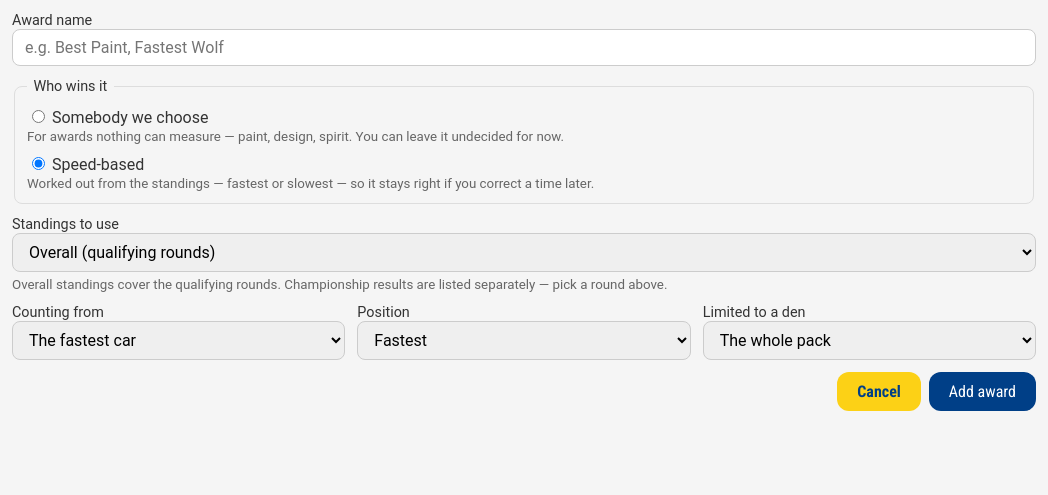
Test case: AwardForm › the judged-award picker warning (#615) › warns when the picked racer already holds another award
This screenshot has width=1048, height=495.
Click the radio button labelled "Somebody we choose". click: (38, 116)
box: top-left (32, 110), bottom-right (45, 123)
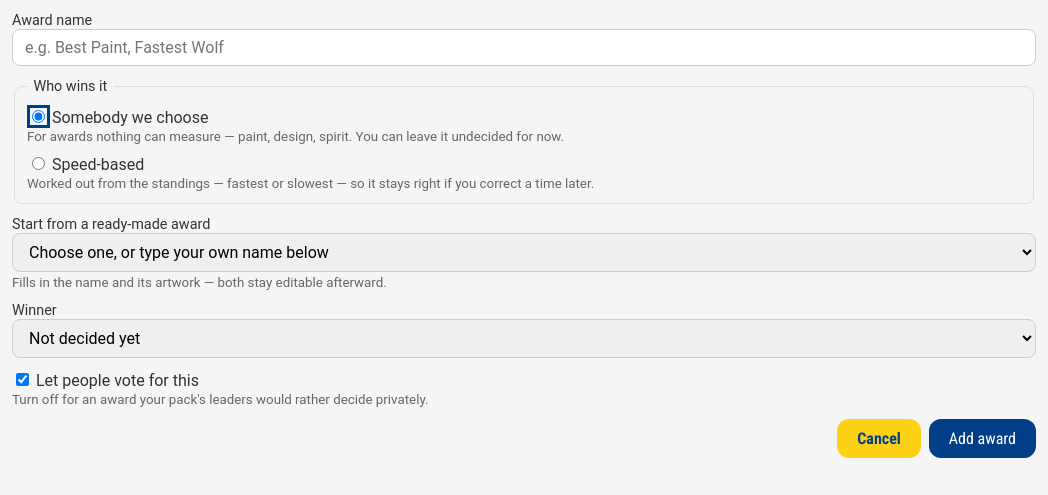
Select "Ada Lovelace (#42)" in the dropdown labelled "Winner". click: (524, 338)
box: top-left (12, 319), bottom-right (1036, 358)
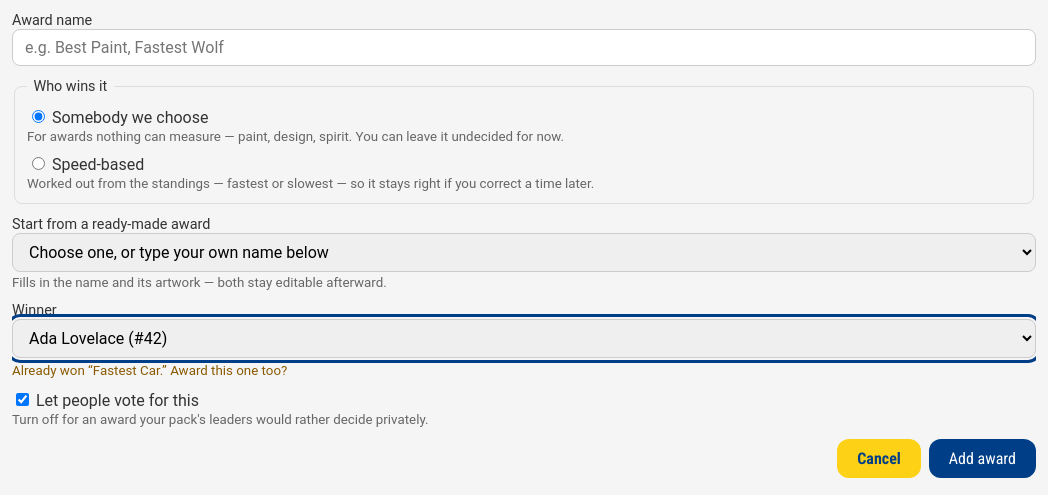
Now the text "Already won “Fastest Car.” Award this one too?" is shown, box top-left (12, 363), bottom-right (287, 378)
